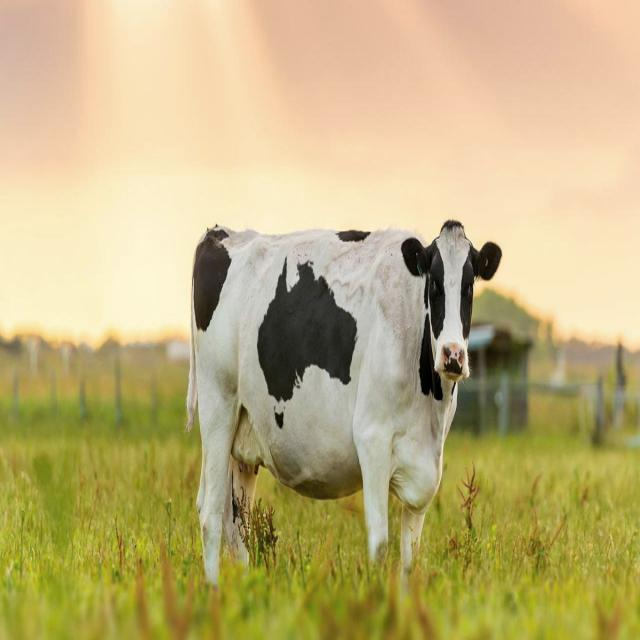cow: (186, 220, 502, 583)
